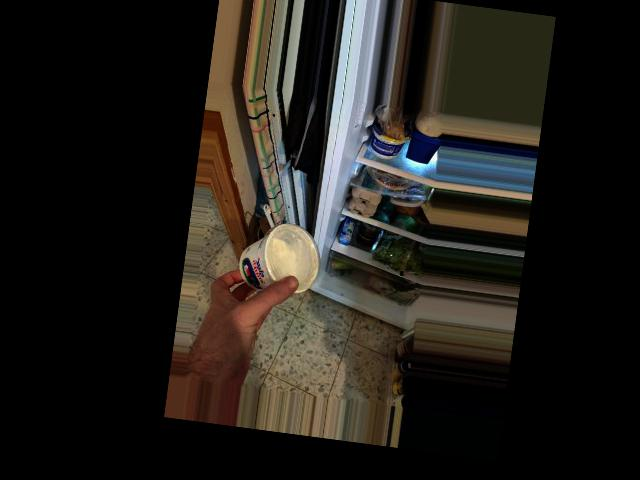cotage: (231, 216, 324, 303)
